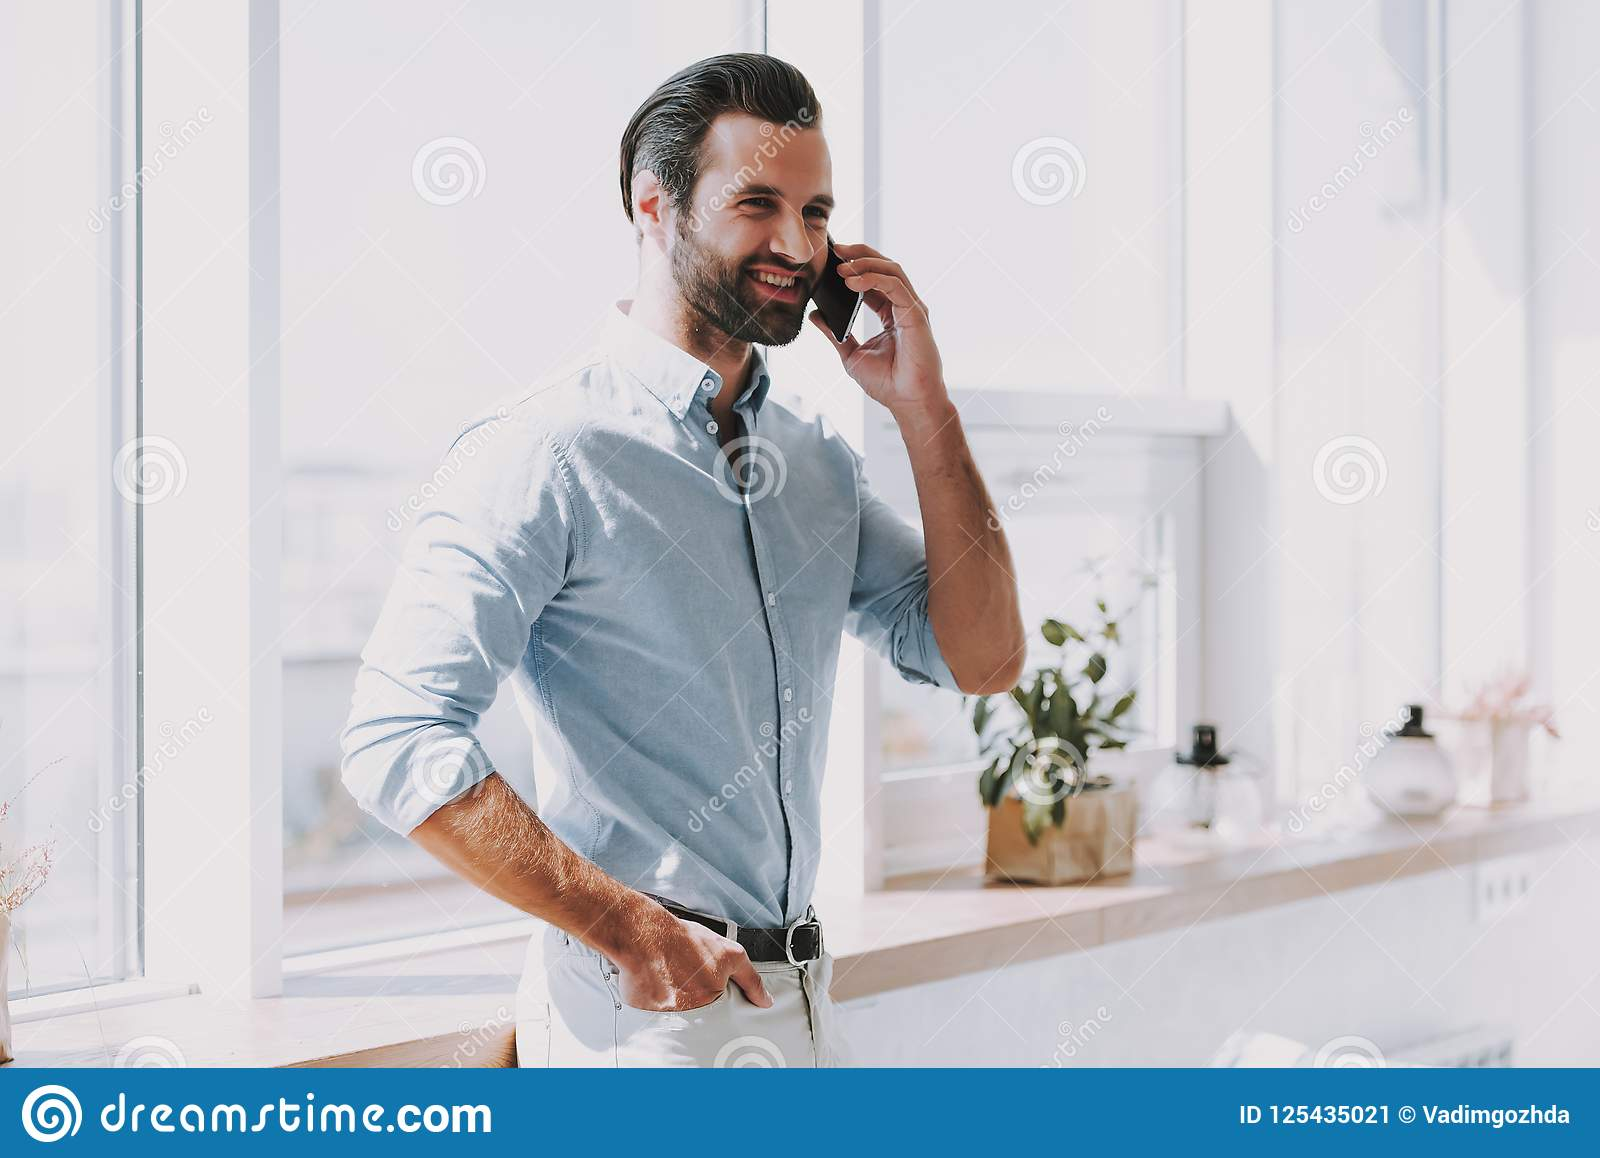phone: (814, 244, 873, 349)
talk: (709, 164, 947, 432)
